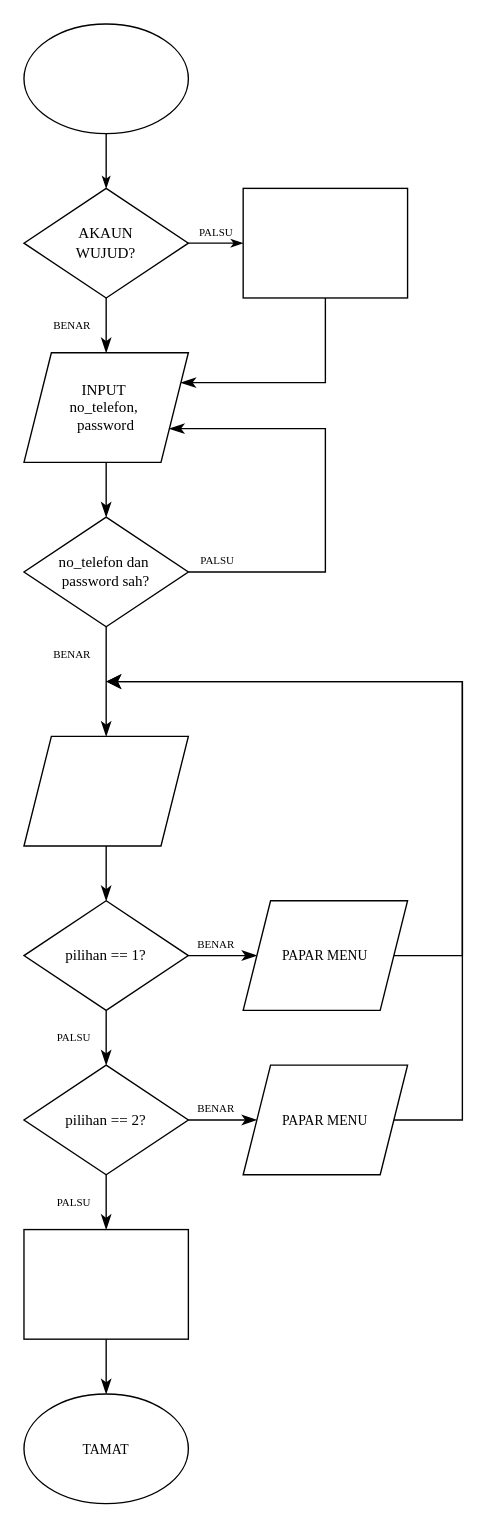
The diagram is 500 pixels wide and 1528 high, and some of its shapes have lost their labels. Each missing label, with the centre of its shape:
"CIPTA AKAUN BAHARU" goes at point 325,242.
"INPUT pilihan" goes at point 105,790.
"MULA" goes at point 105,78.
"TEMPAH PESANAN" goes at point 105,1283.
